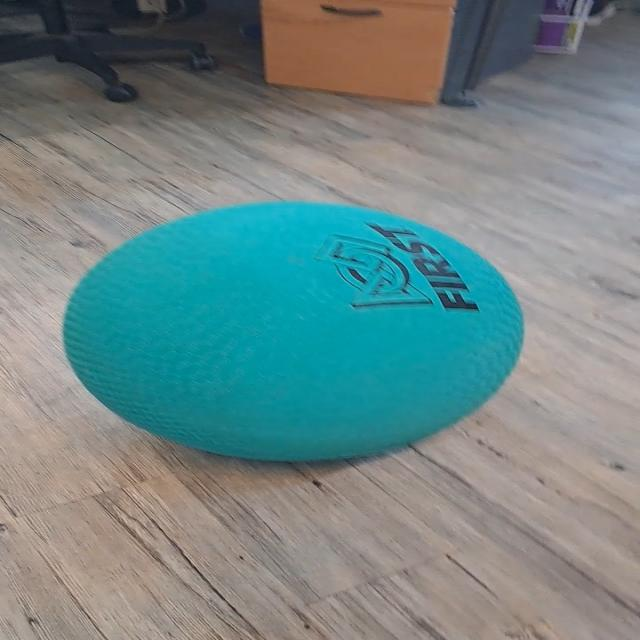ALGAE: (60, 200, 526, 463)
